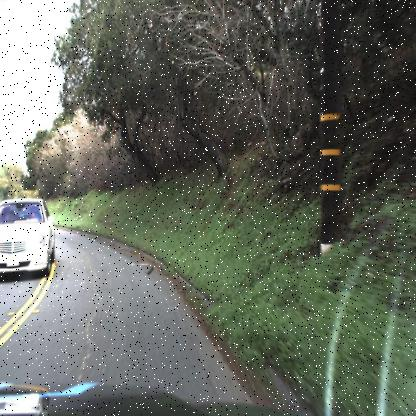car: (0, 198, 55, 276)
